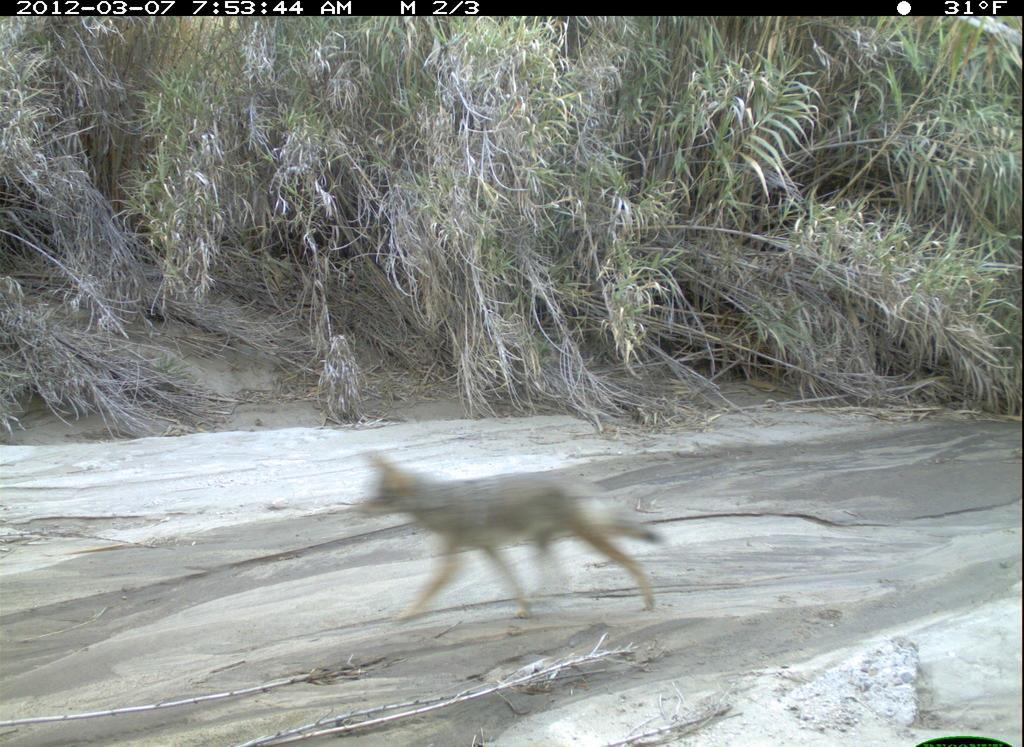coyote: (354, 447, 669, 630)
